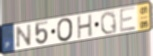5: (34, 21, 50, 46)
E: (118, 6, 138, 35)
H: (77, 13, 94, 40)
N: (16, 23, 33, 50)
O: (56, 17, 75, 43)
Q: (100, 10, 119, 36)
